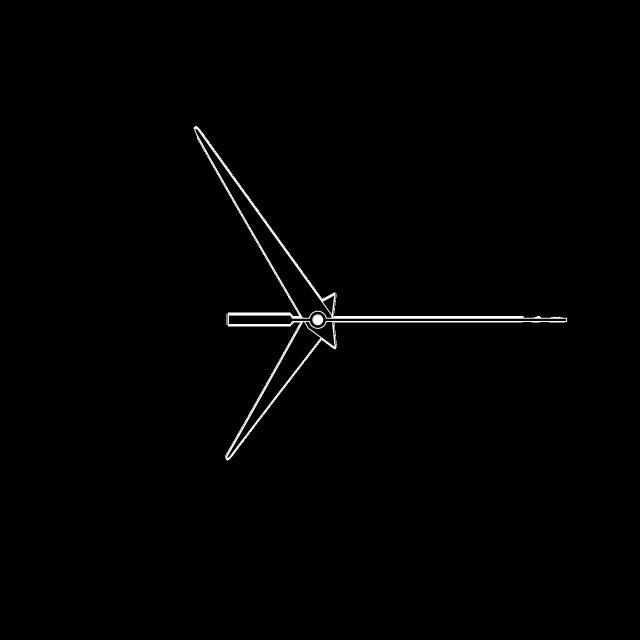clock: (15, 0, 595, 640)
